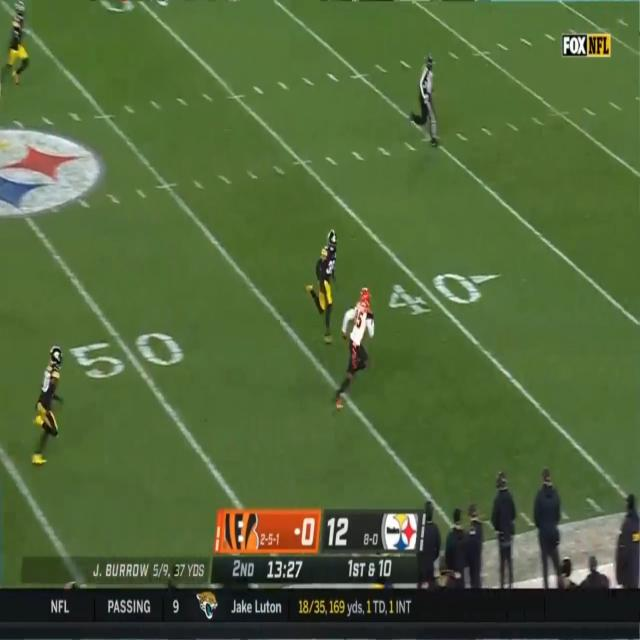Ball: (366, 308, 375, 322)
